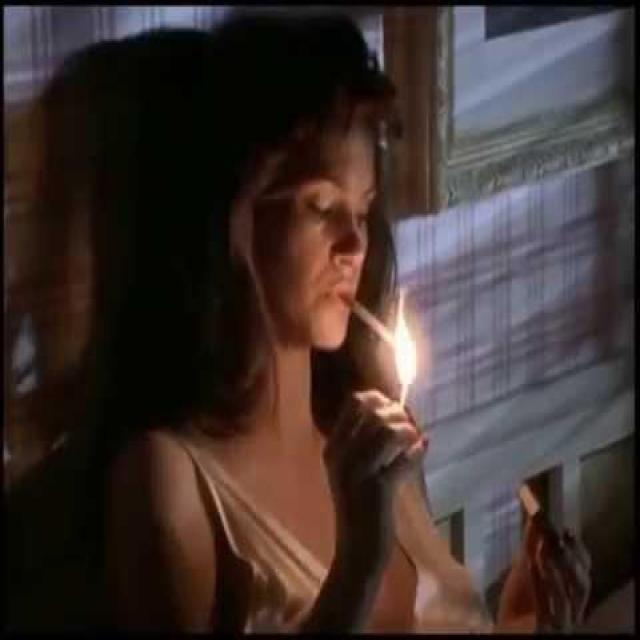cigarette: (338, 292, 413, 358)
